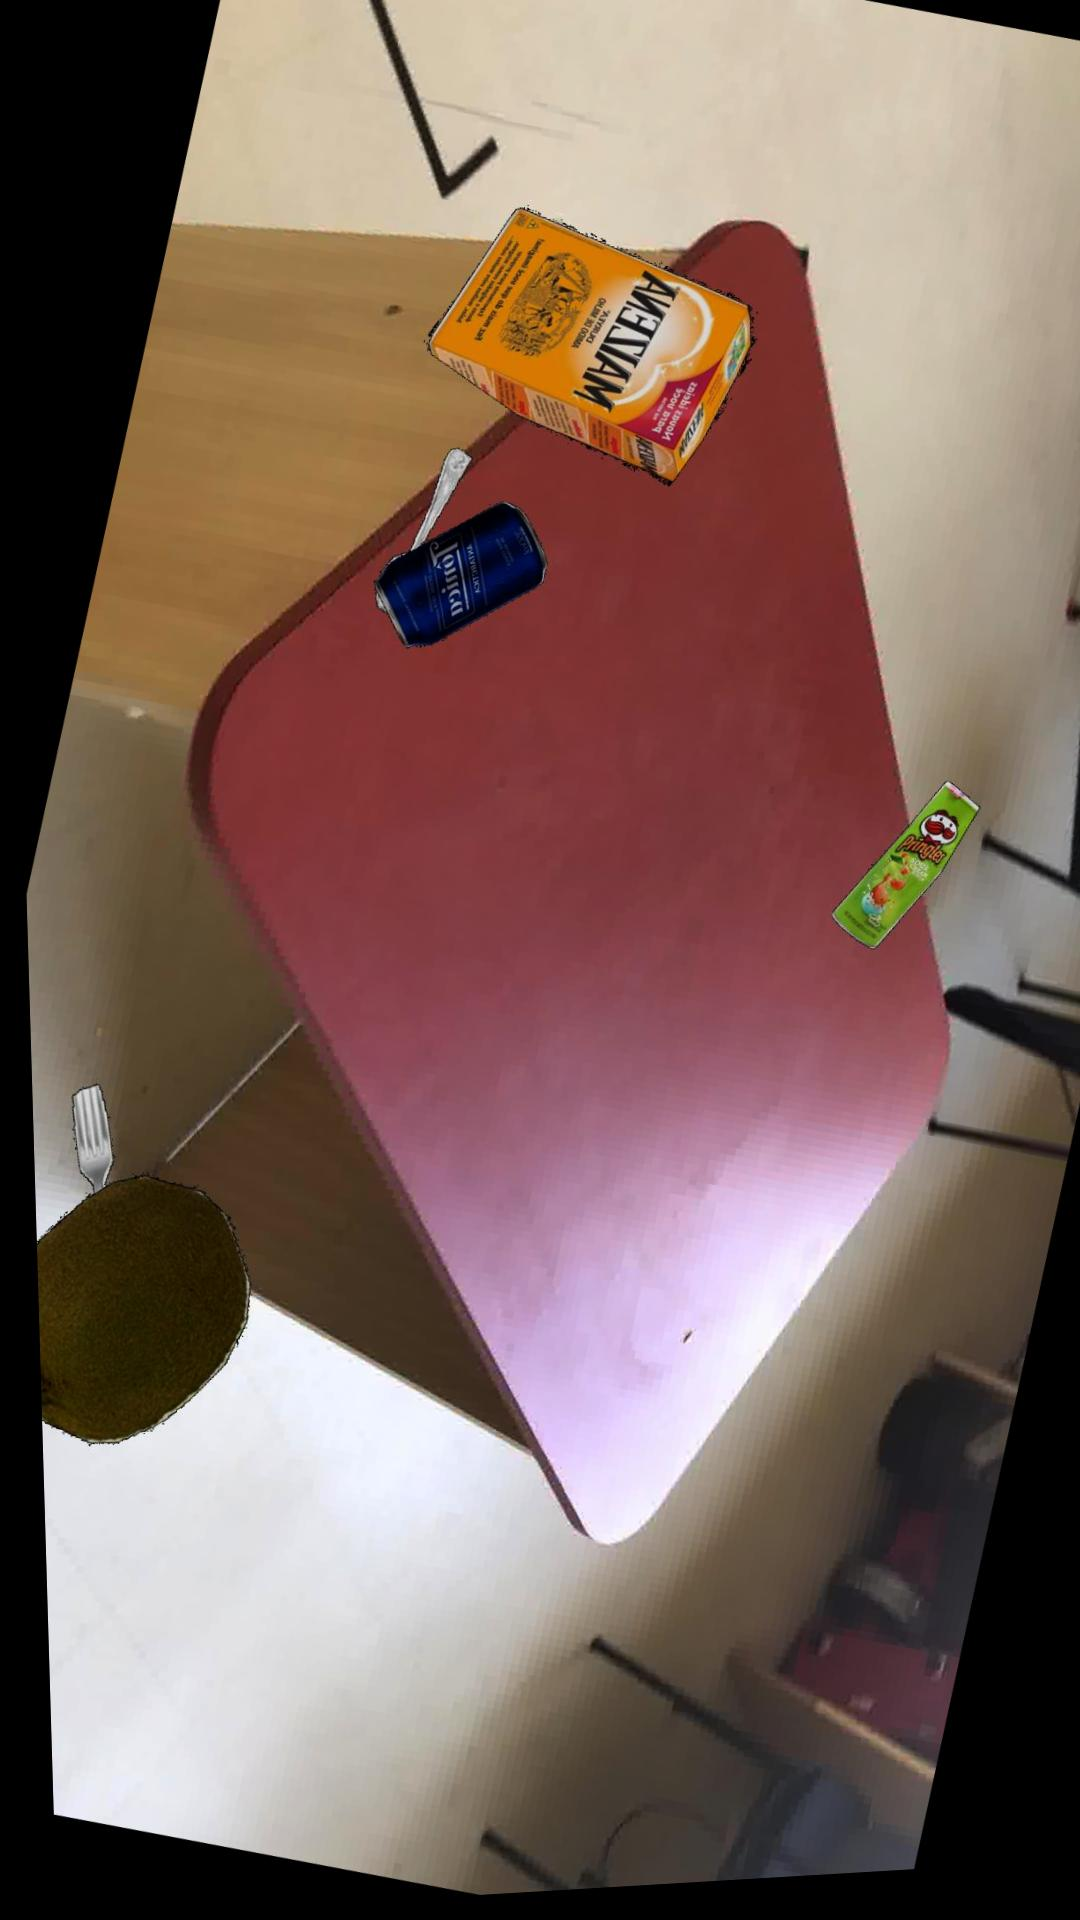fork: (63, 1083, 105, 1192)
kiwi: (29, 1174, 241, 1444)
pringles: (824, 791, 973, 959)
spoon: (371, 452, 468, 617)
tonic: (369, 506, 543, 651)
